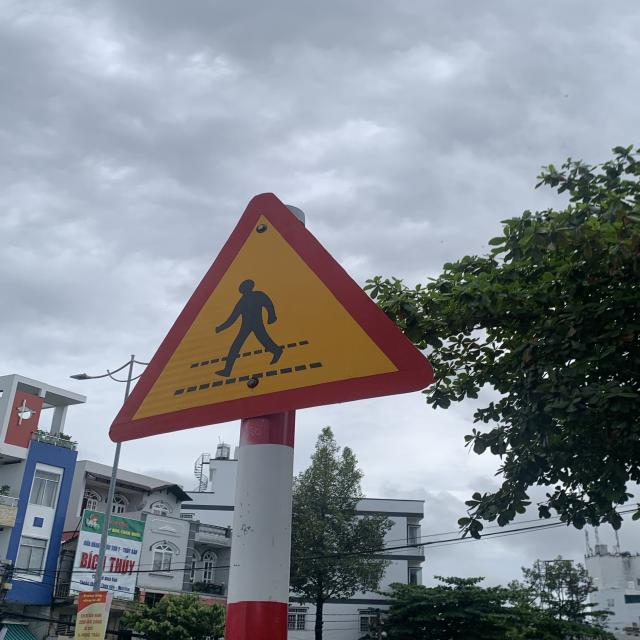Duong_Nguoi_Di_Bo_Sang_Ngang: (107, 191, 434, 450)
